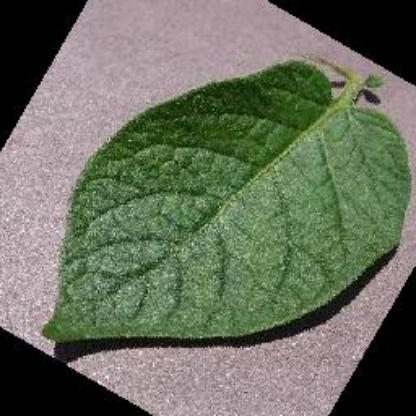Healthy-plant: (37, 60, 411, 346)
